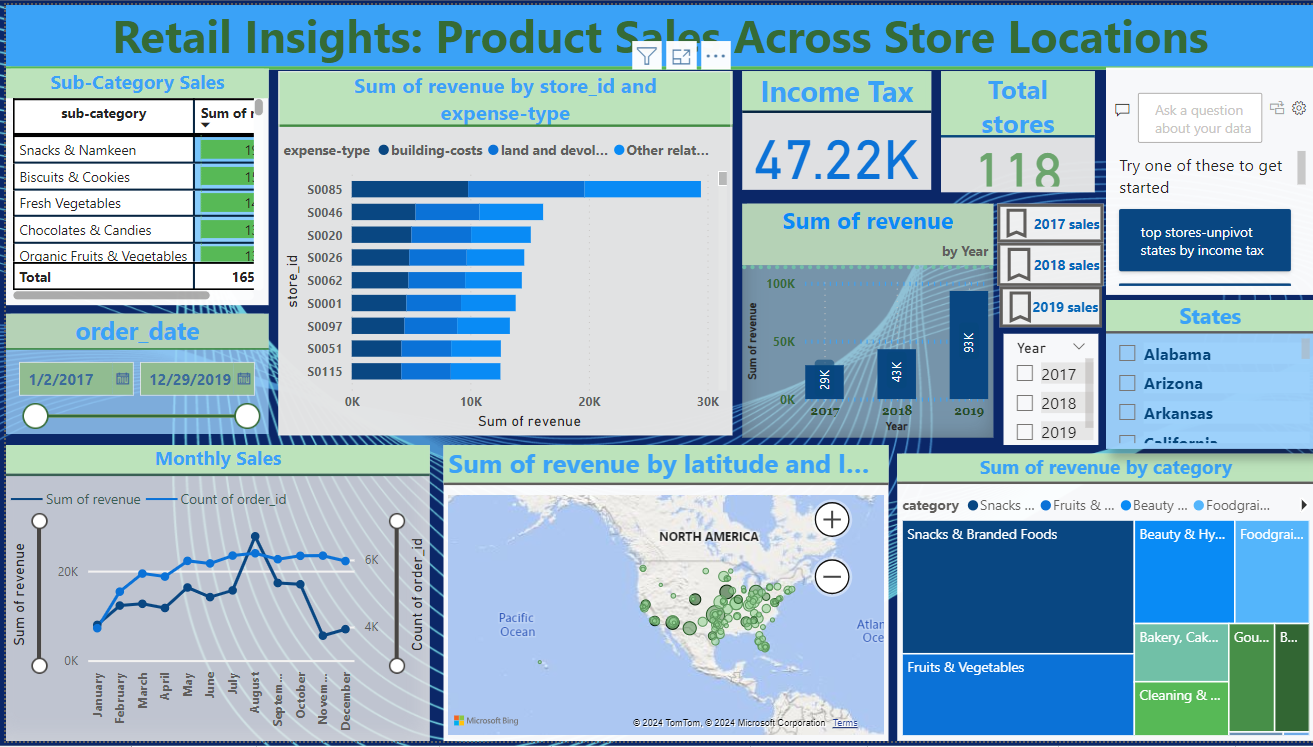

The page's visual inventory and layout, read from the dashboard file:
{"tool":"powerbi","page":{"name":"DashBoard","canvas":[1280,720],"ordinal":0},"visuals":[{"type":"textbox","title":"Retail Insights: Product Sales Across Store Locations","box":[0,0,1280,62.9],"z":0},{"type":"columnChart","fields":{"Y":["Sum(Sales.revenue)"],"Category":["Sales.order_date.Variation.Date Hierarchy.Year"]},"box":[720,194.4,245.7,228.6],"z":1000},{"type":"lineChart","title":"Monthly Sales","fields":{"Category":["Sales.order_date.Variation.Date Hierarchy.Month"],"Y":["Sum(Sales.revenue)"],"Y2":["CountNonNull(Sales.order_id)"]},"box":[0,430.3,414.4,289.7],"z":2000},{"type":"tableEx","title":"Sub-Category Sales","fields":{"Values":["products.sub-category","Sum(Sales.revenue)"]},"box":[0,62.3,256.7,231],"z":3000},{"type":"barChart","fields":{"Category":["stores-unpivot.store_id"],"Y":["Sum(Sales.revenue)"],"Series":["stores-unpivot.Attribute"]},"box":[266.5,64.8,443.7,355.7],"z":4000},{"type":"slicer","title":"order_date","fields":{"Values":["Sales.order_date"]},"box":[0,301.9,256.7,117.4],"z":5000},{"type":"map","fields":{"Y":["stores_new.latitude"],"X":["stores_new.longitude"],"Size":["Sum(Sales.revenue)"]},"box":[427.8,430.3,435.2,289.7],"z":6000},{"type":"treemap","fields":{"Group":["products.category"],"Values":["Sum(Sales.revenue)"]},"box":[871.6,438.8,408.3,281.2],"z":7000},{"type":"card","title":"Income Tax","fields":{"Values":["Sales.IncomeTax"]},"box":[720,64.8,184.6,116.1],"z":8000},{"type":"card","title":"Total stores","fields":{"Values":["Count(sales.store_id)"]},"box":[914.4,64.8,150.4,118.6],"z":9000},{"type":"qnaVisual","box":[1075.7,61.1,204.1,222.5],"z":11000},{"type":"slicer","title":"States","fields":{"Values":["stores_new.state"]},"box":[1075.7,288.5,204.1,145.5],"z":12000},{"type":"actionButton","title":"2017","box":[969.4,194.4,103.9,37.9],"z":12004},{"type":"actionButton","title":"2018","box":[969.4,232.3,103.9,42.8],"z":12005},{"type":"actionButton","box":[971.8,275,100.2,40.3],"z":12006},{"type":"slicer","fields":{"Values":["Sales.order_date.Variation.Date Hierarchy.Year"]},"box":[975.5,321.5,92.9,108.8],"z":12007}]}

Visuals, with their boxes on the page's 1280x720 design canvas (x1, y1, x2, y2). These are canvas units, not pixel positions in the 1313x747 screenshot, which may show the page scaled, cropped or inside an application window:
"Retail Insights: Product Sales Across Store Locations" textbox: [0, 0, 1280, 63]
columnChart - Sum(Sales.revenue) x Sales.order_date.Variation.Date Hierarchy.Year: [720, 194, 966, 423]
"Monthly Sales" lineChart: [0, 430, 414, 720]
"Sub-Category Sales" tableEx: [0, 62, 257, 293]
barChart - stores-unpivot.store_id x Sum(Sales.revenue): [266, 65, 710, 420]
"order_date" slicer: [0, 302, 257, 419]
map - stores_new.latitude x stores_new.longitude: [428, 430, 863, 720]
treemap - products.category x Sum(Sales.revenue): [872, 439, 1280, 720]
"Income Tax" card: [720, 65, 905, 181]
"Total stores" card: [914, 65, 1065, 183]
qnaVisual: [1076, 61, 1280, 284]
"States" slicer: [1076, 288, 1280, 434]
"2017" actionButton: [969, 194, 1073, 232]
"2018" actionButton: [969, 232, 1073, 275]
actionButton: [972, 275, 1072, 315]
slicer - Sales.order_date.Variation.Date Hierarchy.Year: [976, 322, 1068, 430]
